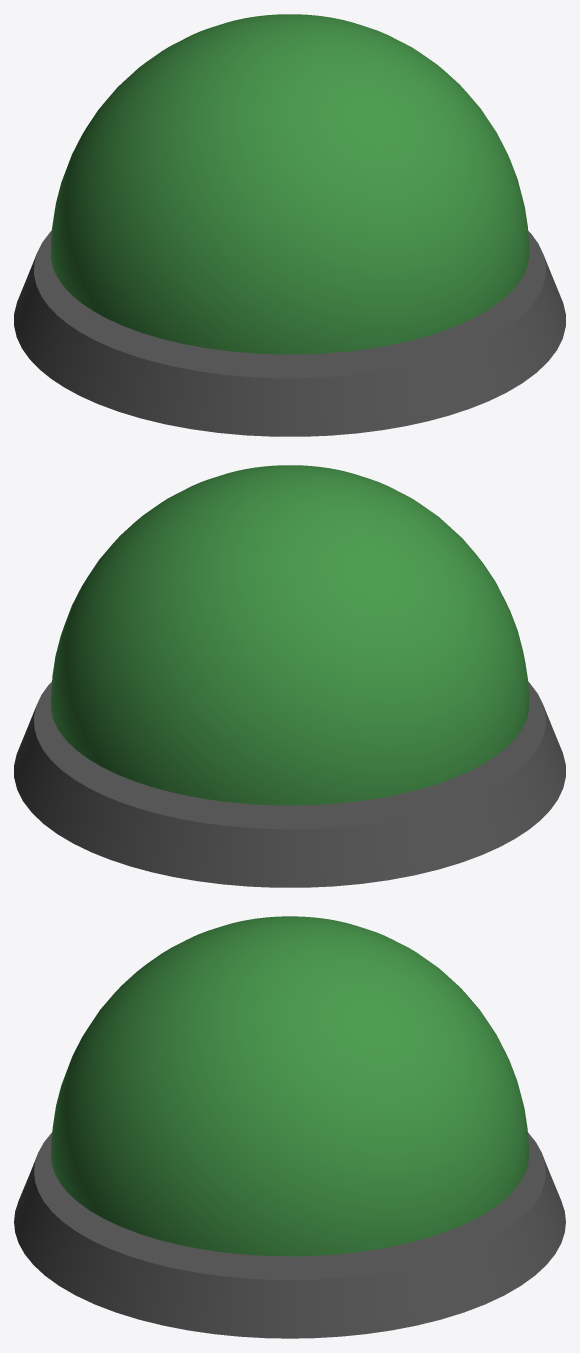
The model's file is Button v1.fbx.
3 views of the same model, one above another, from view 1: azimuth 30°, elevation 25°; view 2: azimuth 150°, elevation 25°; view 3: azimuth 270°, elevation 25° (orthographic).
Parts seen in each view (by area): view 1: Body2, Body1; view 2: Body2, Body1; view 3: Body2, Body1.
Boxes of the visible parts, box(x1,y1,x2,y2) form: Body2: box(50, 14, 529, 354); Body1: box(14, 231, 565, 436); Body2: box(50, 465, 529, 805); Body1: box(14, 682, 565, 887); Body2: box(50, 916, 529, 1256); Body1: box(14, 1132, 565, 1338).
Size of the model in its own units: 0.3 by 0.17 by 0.3.
